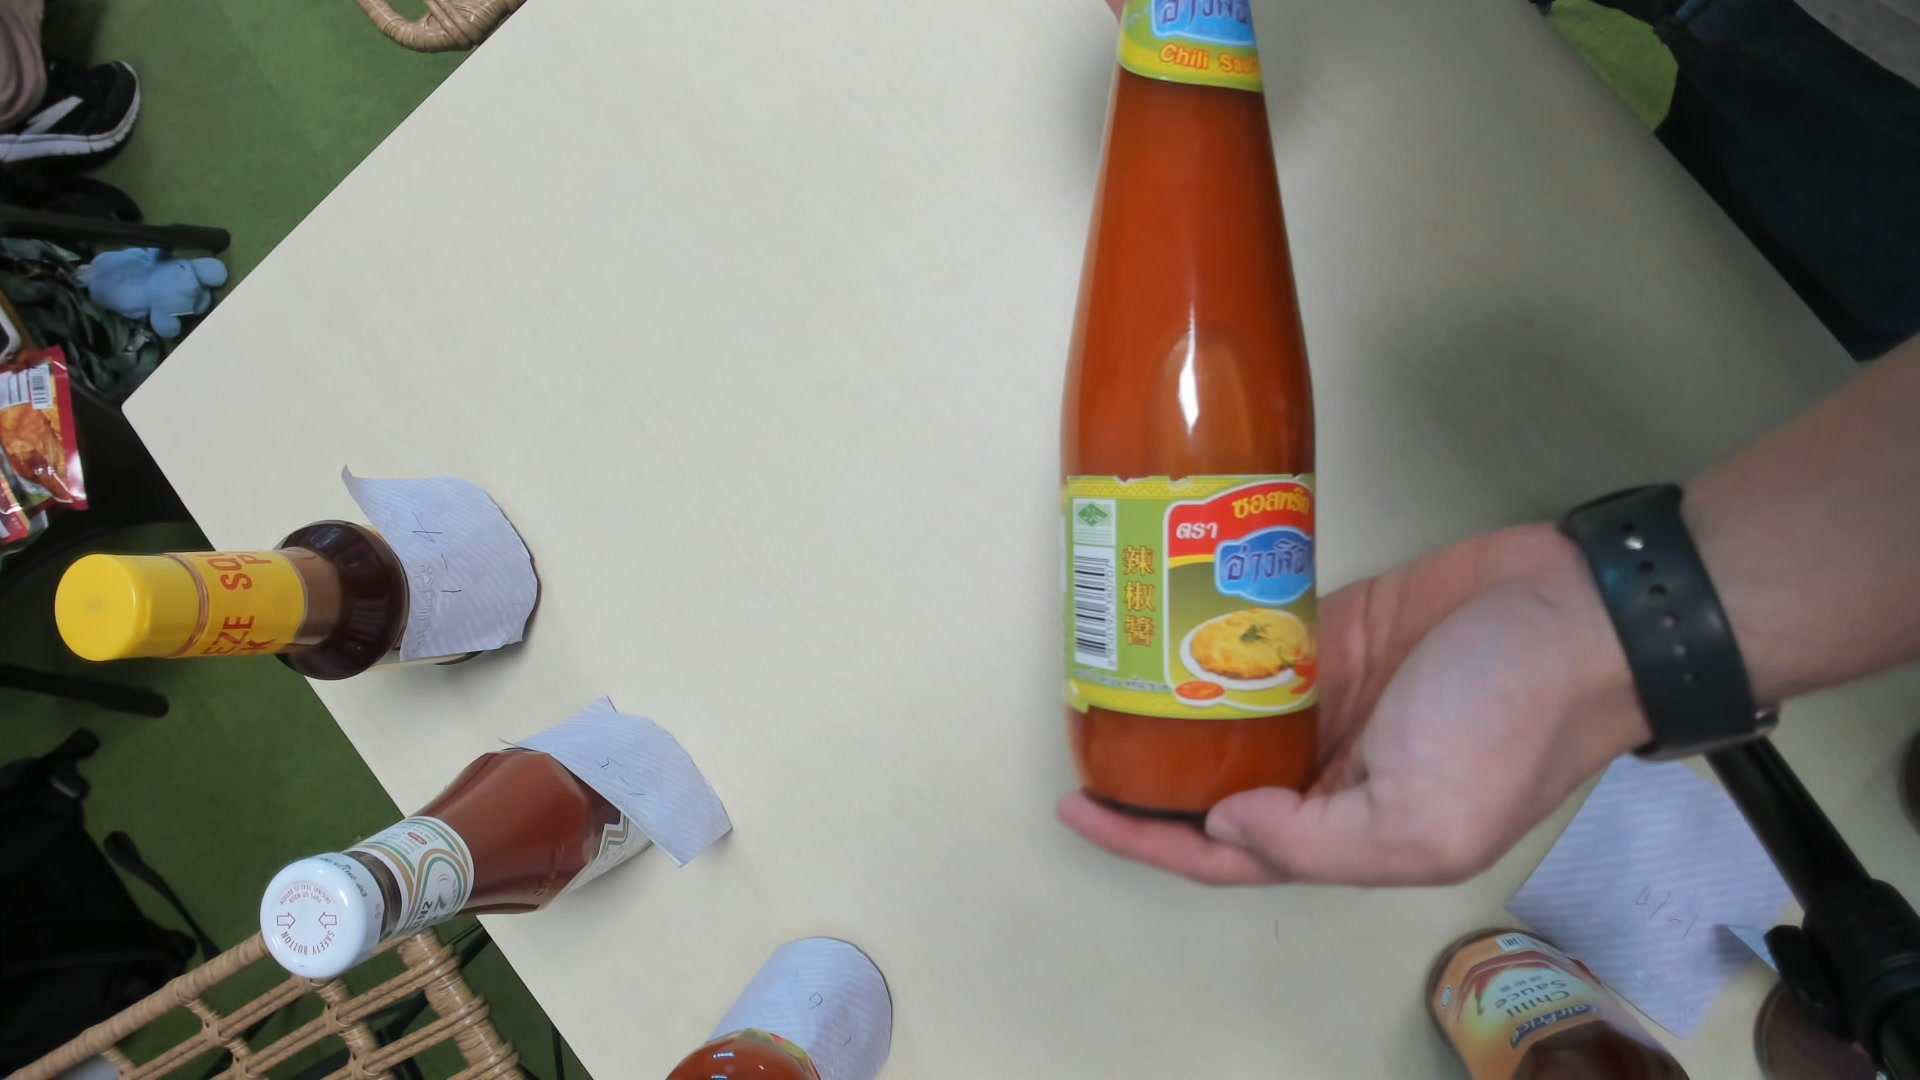KetchupChillSauce_600-699g_Halal_NonHealthy: (1063, 7, 1324, 819)
